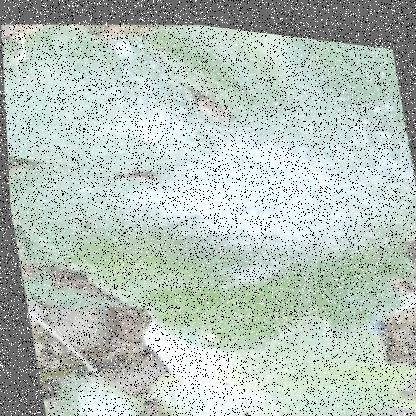PowderyMildew: (100, 51, 415, 289)
